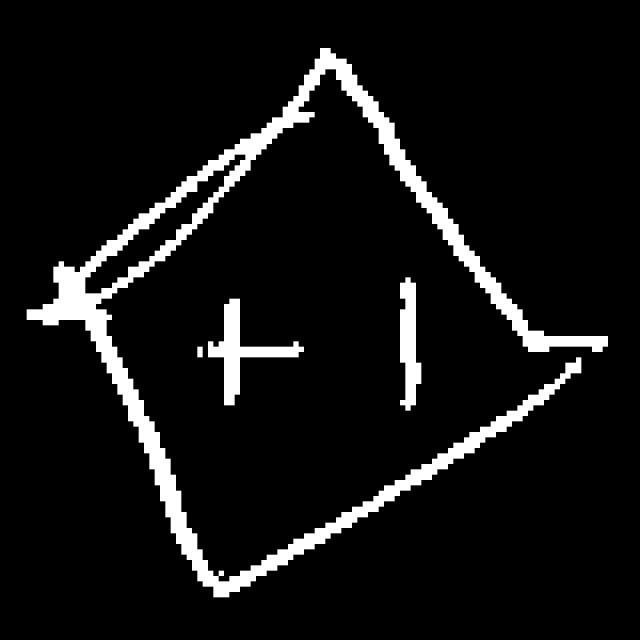dependant_voltage: (82, 41, 541, 596)
